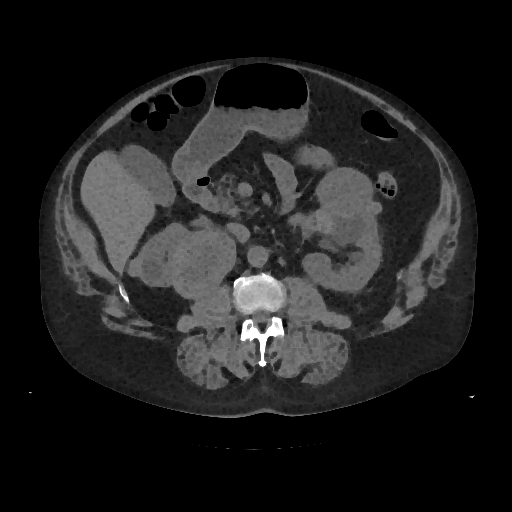Lesion: (175, 231, 236, 298)
